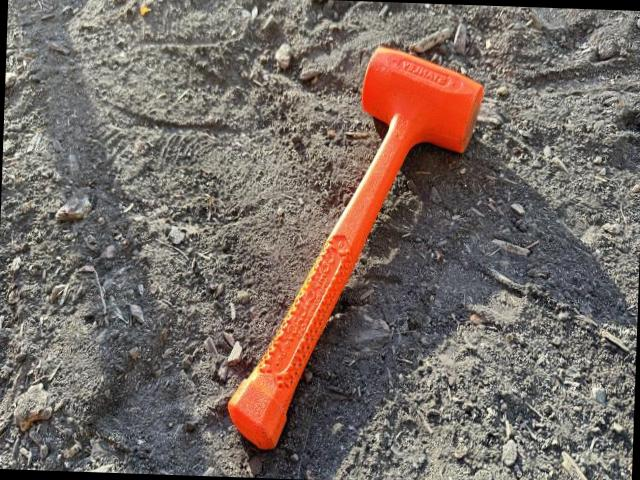hammer: (226, 42, 484, 455)
